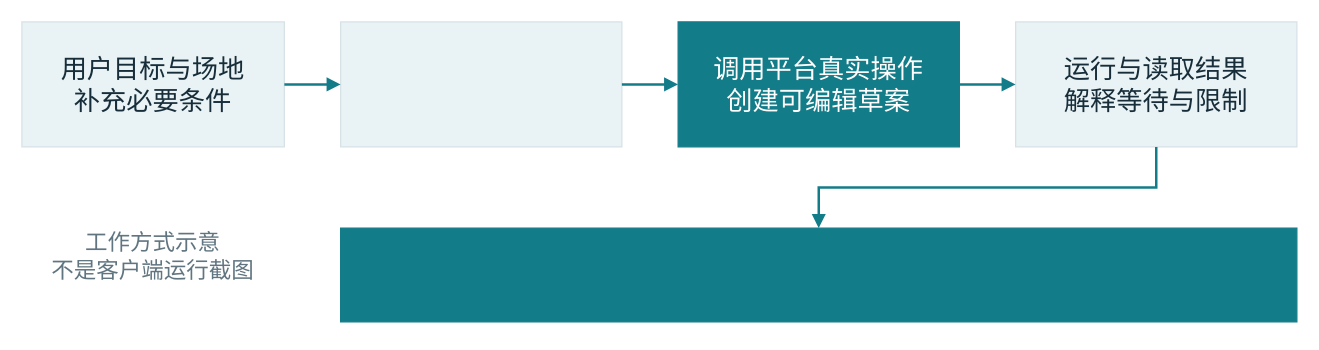
Some shapes in this 1319 by 350 pixel diagram are drawn without their labels. The shapes that lost their labels are listed below. From the top down, each one's box as (x1, y1, x2, y2) in pixels, then its label:
(339, 21, 622, 147): 查询模板与九类库 选用适用模块
(339, 227, 1297, 322): 人工接管：修改同一工程 → 再运行 → 导出报告
